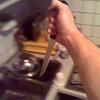melee: (38, 36, 57, 77)
